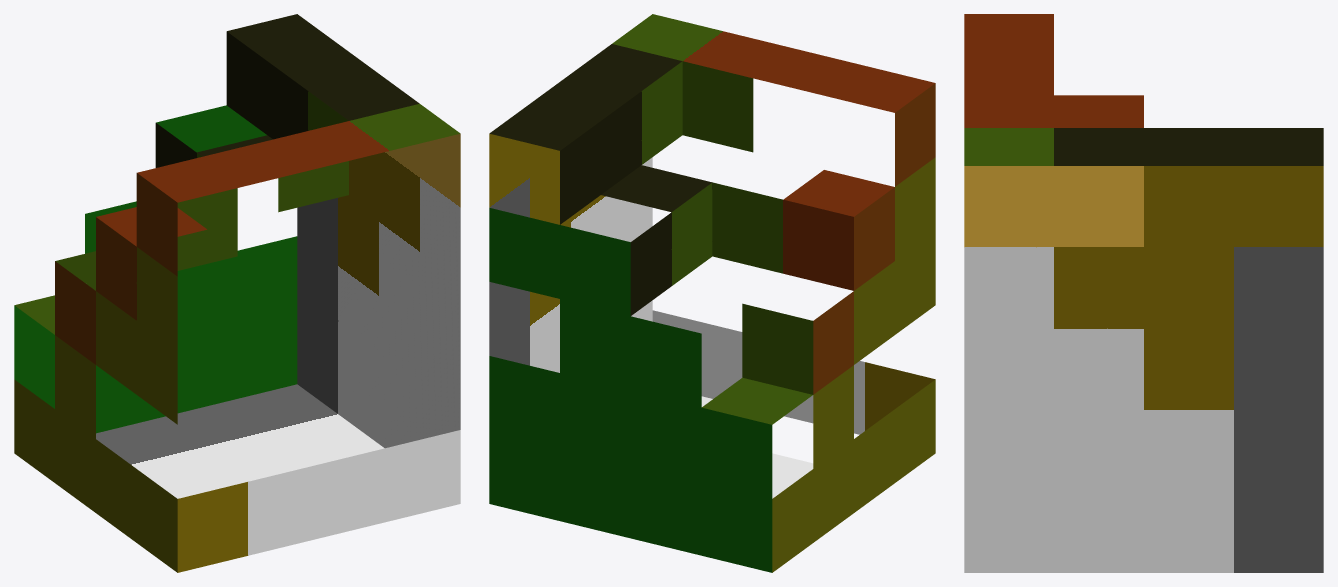
The model's file is block_6.fbx.
The picture shows the model from 3 angles, left to right: view 1: azimuth 30°, elevation 25°; view 2: azimuth 150°, elevation 25°; view 3: azimuth 270°, elevation 25°; orthographic projection. The views are drawn at different scales.
Visible parts, largest first — view 1: Box; view 2: Box; view 3: Box.
Part boxes in pixels (bbox=[...]): Box: bbox=[14, 14, 460, 572]; Box: bbox=[489, 14, 935, 572]; Box: bbox=[964, 14, 1323, 572].
Bounding box in the file's own units: 4 × 4 × 5.
Materials: 1 (1 with a texture image).
